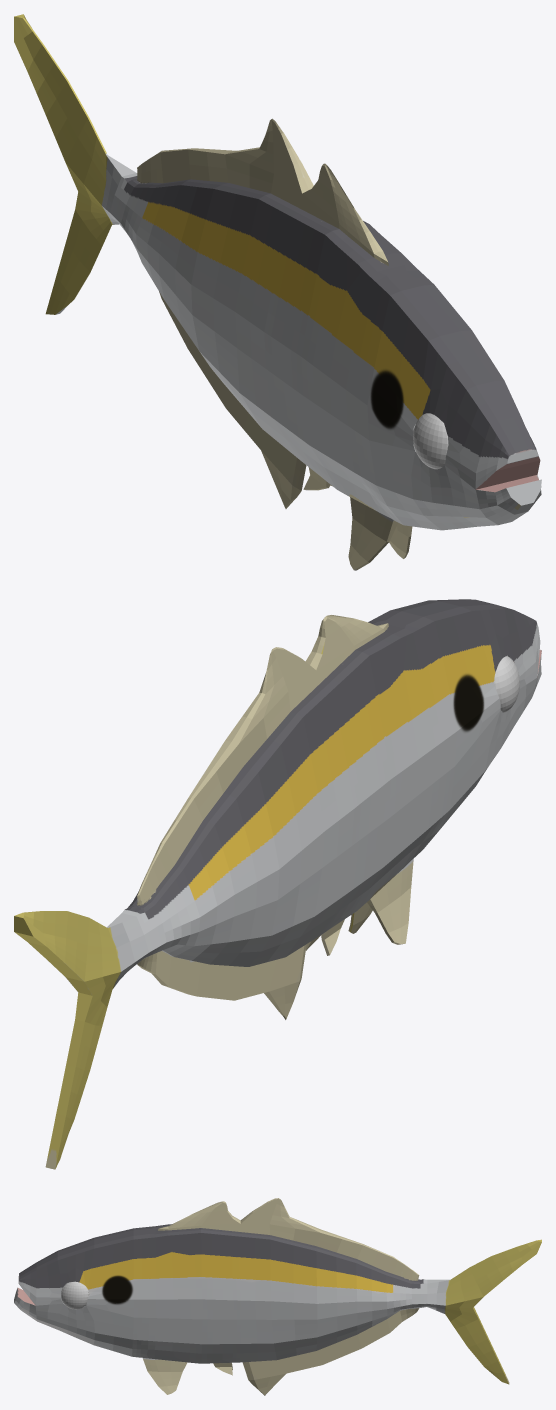
The model's file is YellowstripeScad.obj.
3 renders of one model, top to bottom at view 1: azimuth 30°, elevation 25°; view 2: azimuth 150°, elevation 25°; view 3: azimuth 270°, elevation 25°, orthographic. The views are drawn at different scales.
Parts seen in each view (by area): view 1: Cube, Sphere; view 2: Cube, Sphere; view 3: Cube, Sphere.
Part boxes in pixels (x1,y1,x2,y2): Cube: (14, 14, 541, 570); Sphere: (413, 413, 448, 469); Cube: (14, 599, 541, 1169); Sphere: (494, 656, 519, 712); Cube: (14, 1198, 541, 1395); Sphere: (61, 1281, 88, 1309).
Bounding box in the file's own units: 0.4528 × 1.72 × 4.15.
Materials: 2 (1 with a texture image).
